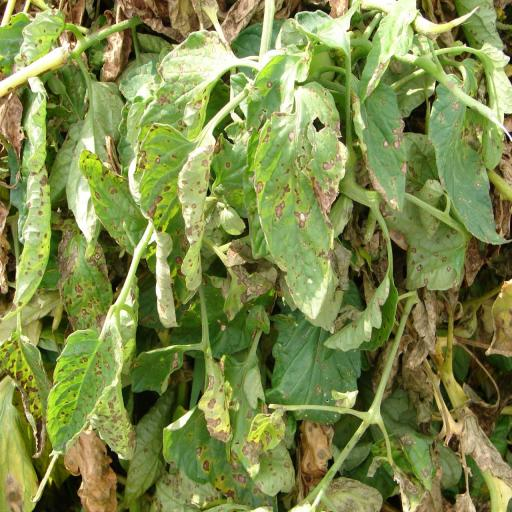disease_tomato: (251, 77, 352, 322), (139, 119, 218, 332), (426, 56, 512, 248), (161, 372, 276, 512), (0, 73, 53, 323), (136, 19, 237, 140), (269, 308, 362, 430), (44, 324, 122, 460), (348, 72, 418, 221), (78, 148, 156, 274), (321, 267, 400, 356), (0, 331, 53, 462), (56, 216, 113, 331), (128, 339, 186, 397), (246, 402, 288, 461)
